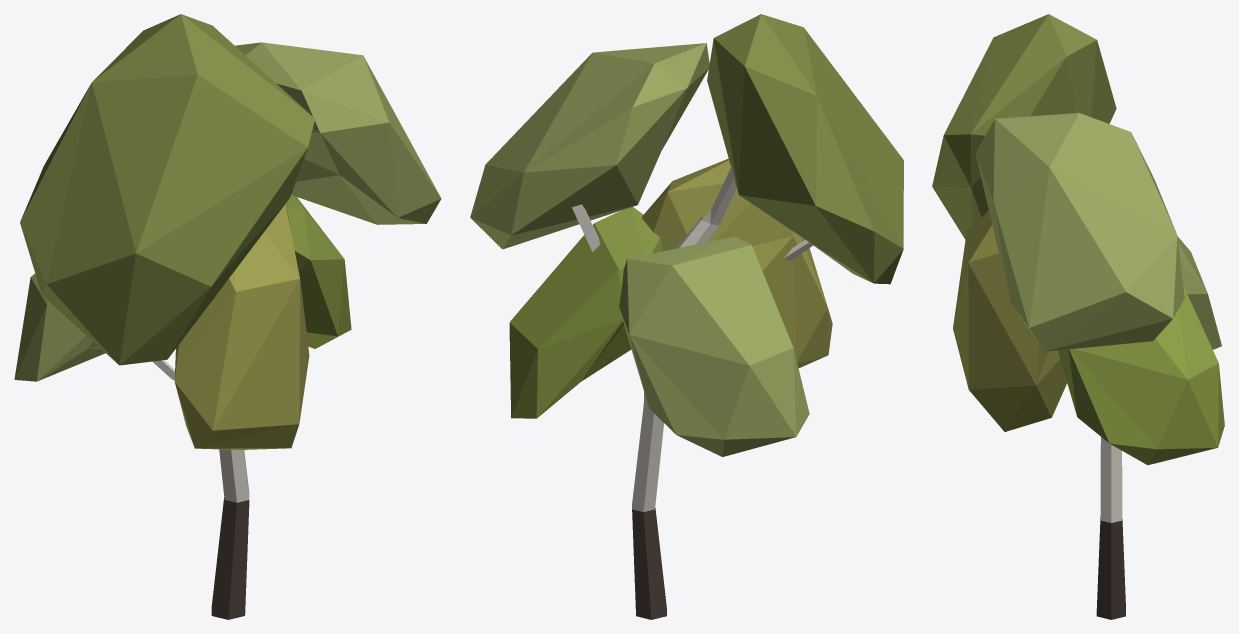
Rendered from Tree Type5 02.glb.
The picture shows the model from 3 angles, left to right: view 1: azimuth 30°, elevation 25°; view 2: azimuth 150°, elevation 25°; view 3: azimuth 270°, elevation 25°; orthographic projection. The views are drawn at different scales.
Visible parts, largest first — view 1: Tree_Type5_02_mesh; view 2: Tree_Type5_02_mesh; view 3: Tree_Type5_02_mesh.
Boxes of the visible parts, x1,y1,x2,y2 form: Tree_Type5_02_mesh: (14, 14, 441, 619); Tree_Type5_02_mesh: (470, 14, 903, 619); Tree_Type5_02_mesh: (932, 14, 1224, 619).
Size of the model in its own units: 2.08 by 3.21 by 1.51.
1 material, 1 textured.
